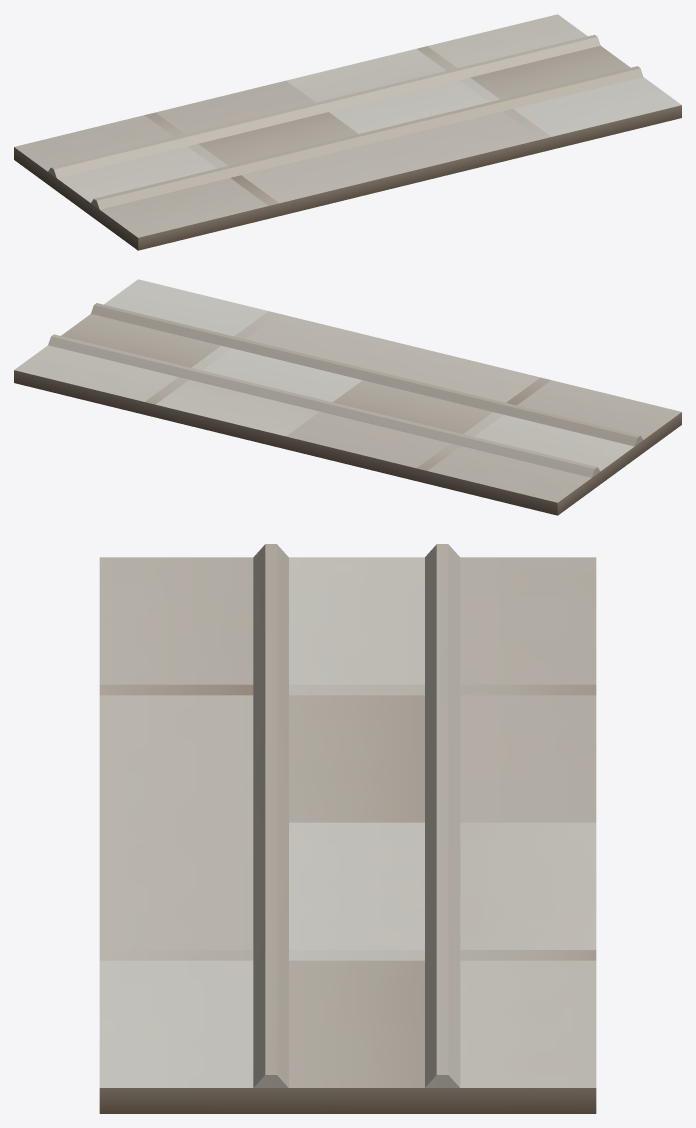
File: cabin_Roof_Side_Snow.obj
3 renders of one model, top to bottom at view 1: azimuth 30°, elevation 25°; view 2: azimuth 150°, elevation 25°; view 3: azimuth 270°, elevation 25°, orthographic. The views are drawn at different scales.
Parts seen in each view (by area): view 1: cabin_Roof_Side_Snow; view 2: cabin_Roof_Side_Snow; view 3: cabin_Roof_Side_Snow.
Boxes of the visible parts, x1,y1,x2,y2 form: cabin_Roof_Side_Snow: (14,14,681,250); cabin_Roof_Side_Snow: (14,279,681,515); cabin_Roof_Side_Snow: (99,544,596,1113).
Bounding box in the file's own units: 9.3 × 0.3189 × 3.68.
